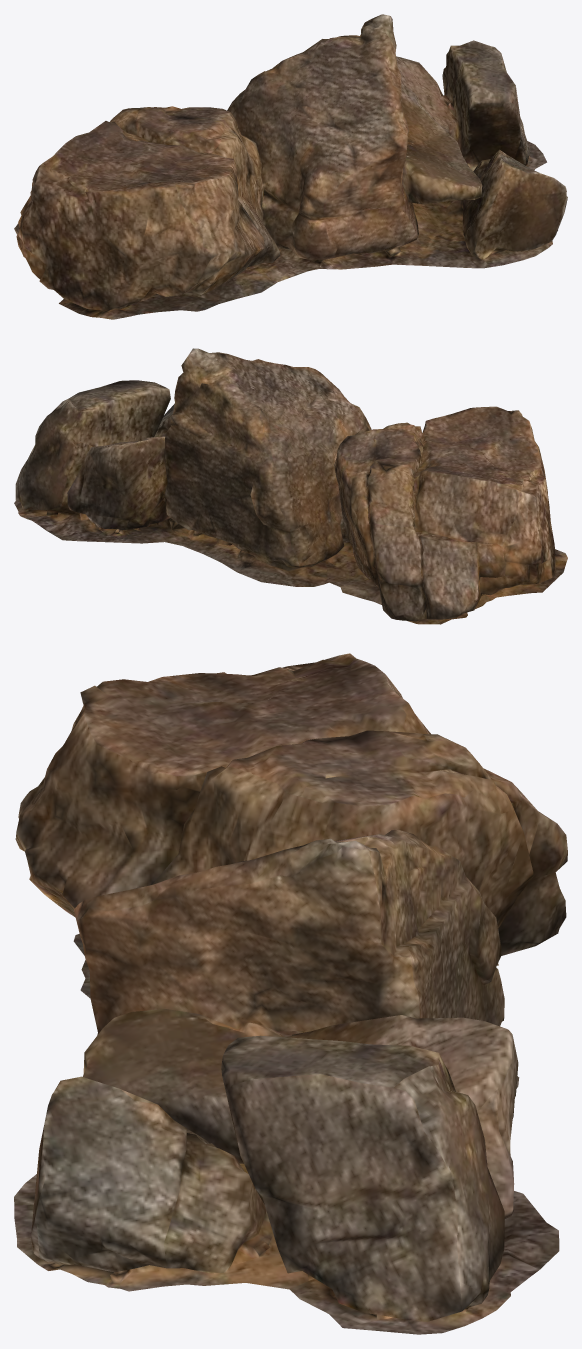
The model's file is rock.glb.
3 renders of one model, top to bottom at view 1: azimuth 30°, elevation 25°; view 2: azimuth 150°, elevation 25°; view 3: azimuth 270°, elevation 25°, orthographic. The views are drawn at different scales.
Visible parts, largest first — view 1: boulder_02; view 2: boulder_02; view 3: boulder_02.
Boxes of the visible parts, bbox=[...] form: boulder_02: bbox=[14, 14, 567, 319]; boulder_02: bbox=[14, 348, 567, 624]; boulder_02: bbox=[14, 653, 567, 1334].
Size of the model in its own units: 2.52 by 0.8802 by 1.23.
1 material, 1 textured.
